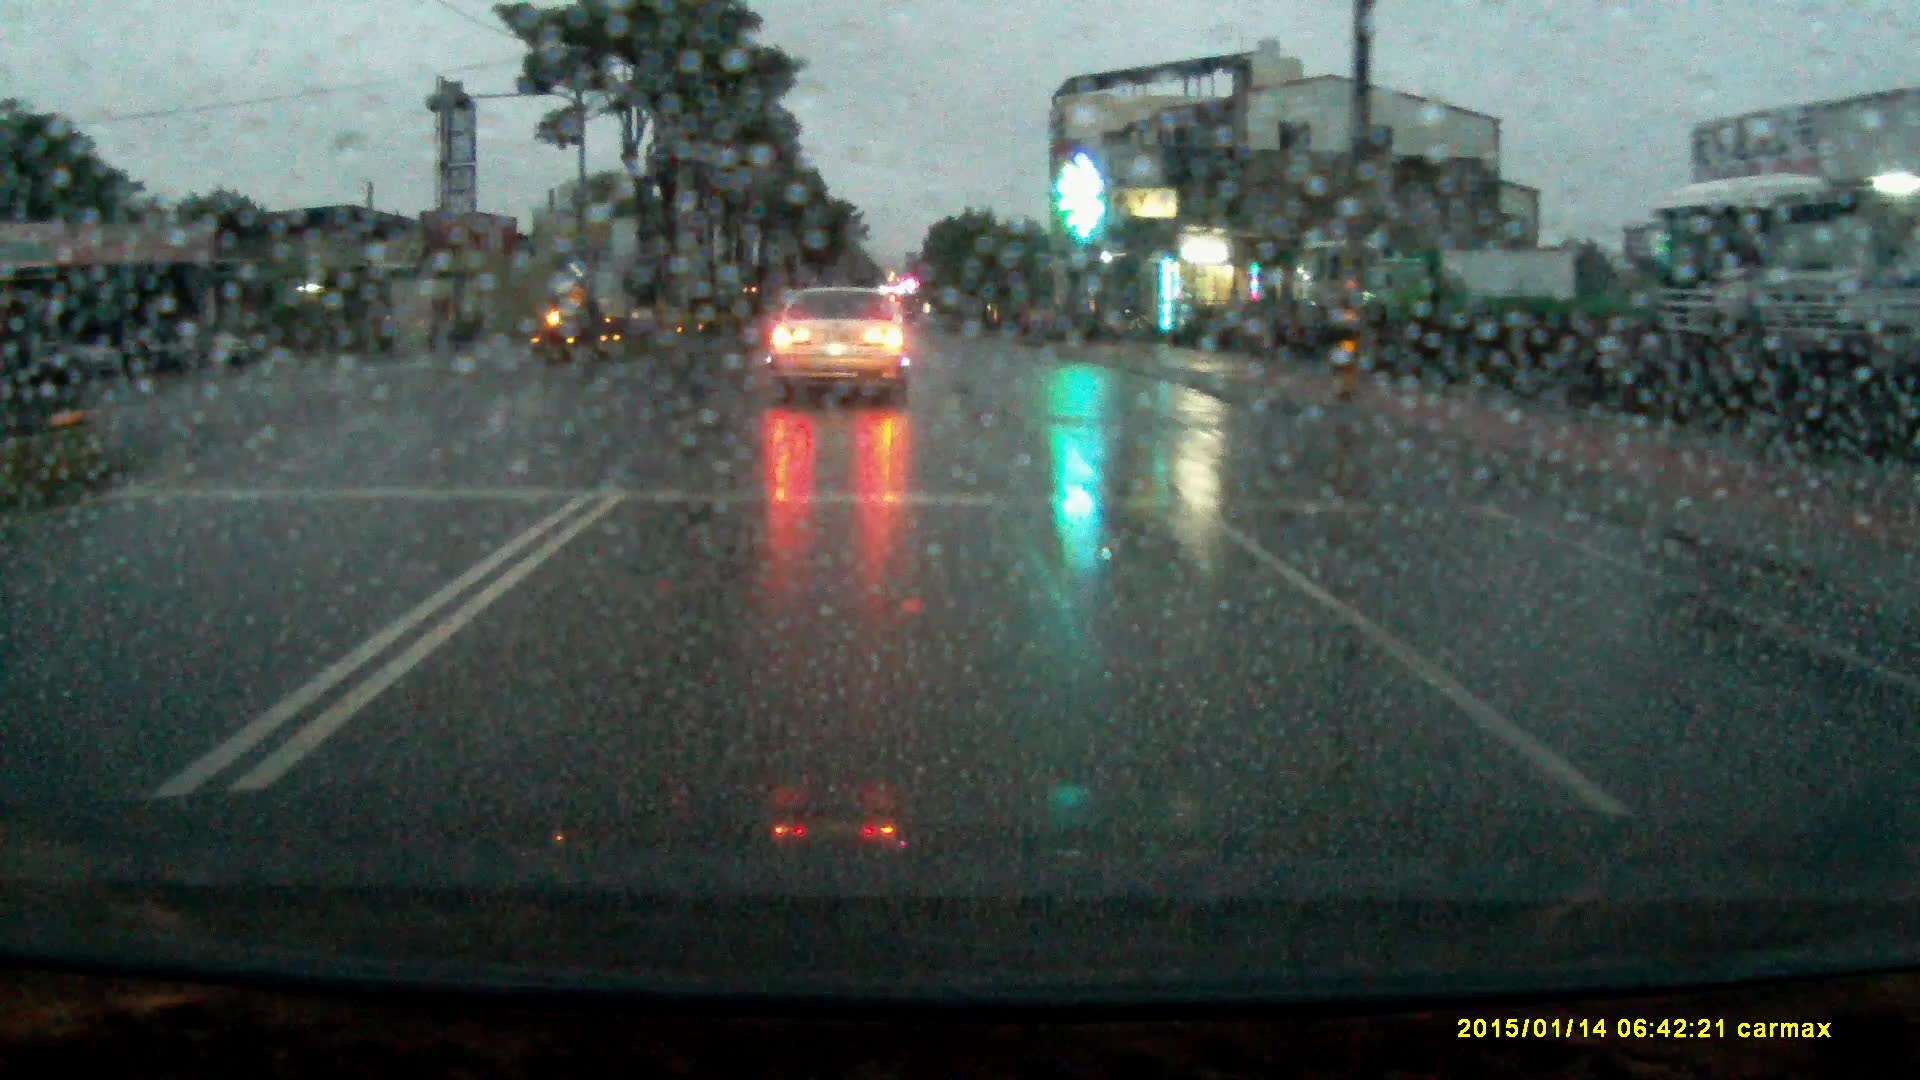vehicle: (1640, 174, 1888, 431), (1756, 208, 1920, 434), (1375, 251, 1578, 347), (771, 290, 919, 414), (1294, 236, 1395, 348), (549, 277, 611, 339)
